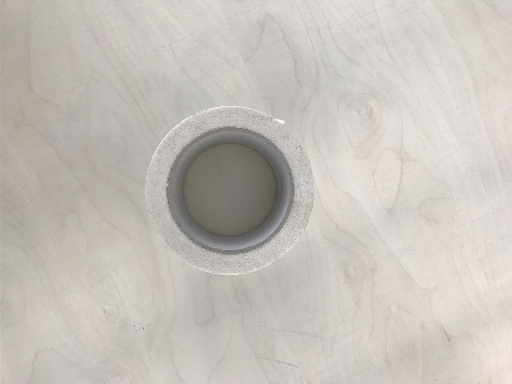Nastro: (139, 105, 320, 277)
